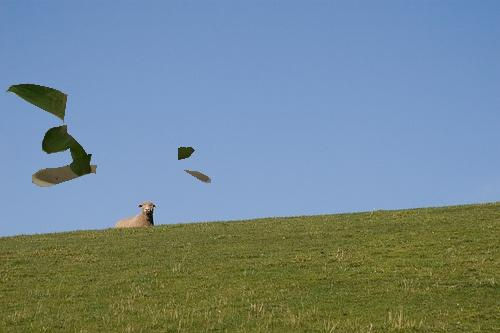tampered: (5, 84, 211, 187)
